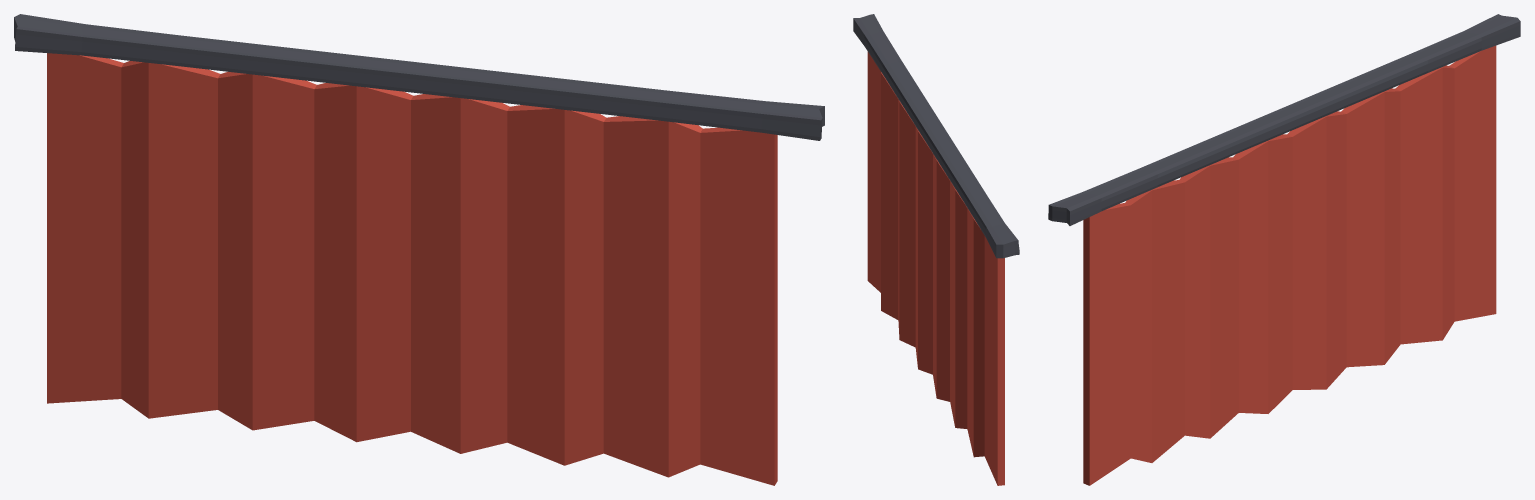
Rendered from curtain.fbx.
3 views of the same model, side by side, from view 1: azimuth 30°, elevation 25°; view 2: azimuth 150°, elevation 25°; view 3: azimuth 270°, elevation 25° (orthographic). The views are drawn at different scales.
Parts seen in each view (by area): view 1: Cube.014, Cube.049; view 2: Cube.014, Cube.049; view 3: Cube.014, Cube.049.
Part boxes in pixels (x1,y1,x2,y2): Cube.014: (47, 53, 777, 485); Cube.049: (14, 14, 824, 140); Cube.014: (867, 51, 1004, 485); Cube.049: (853, 14, 1019, 258); Cube.014: (1083, 45, 1496, 485); Cube.049: (1048, 14, 1520, 225).
Size of the model in its own units: 656 by 446 by 663.
